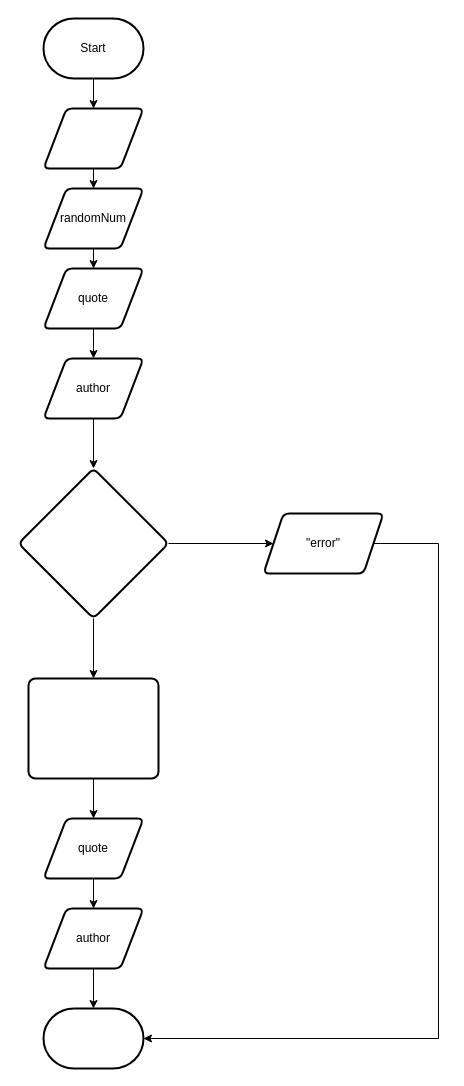
Some shapes in this 464 by 1086 pixel diagram are drawn without their labels. Each missing label, with the centre of its shape:
"If jsonData" goes at [93,543].
"jsonData" goes at [93,138].
"quote = jsonData[randomNum] author= jsonData[randomNum]" goes at [93,728].
"Stop" goes at [93,1038].
